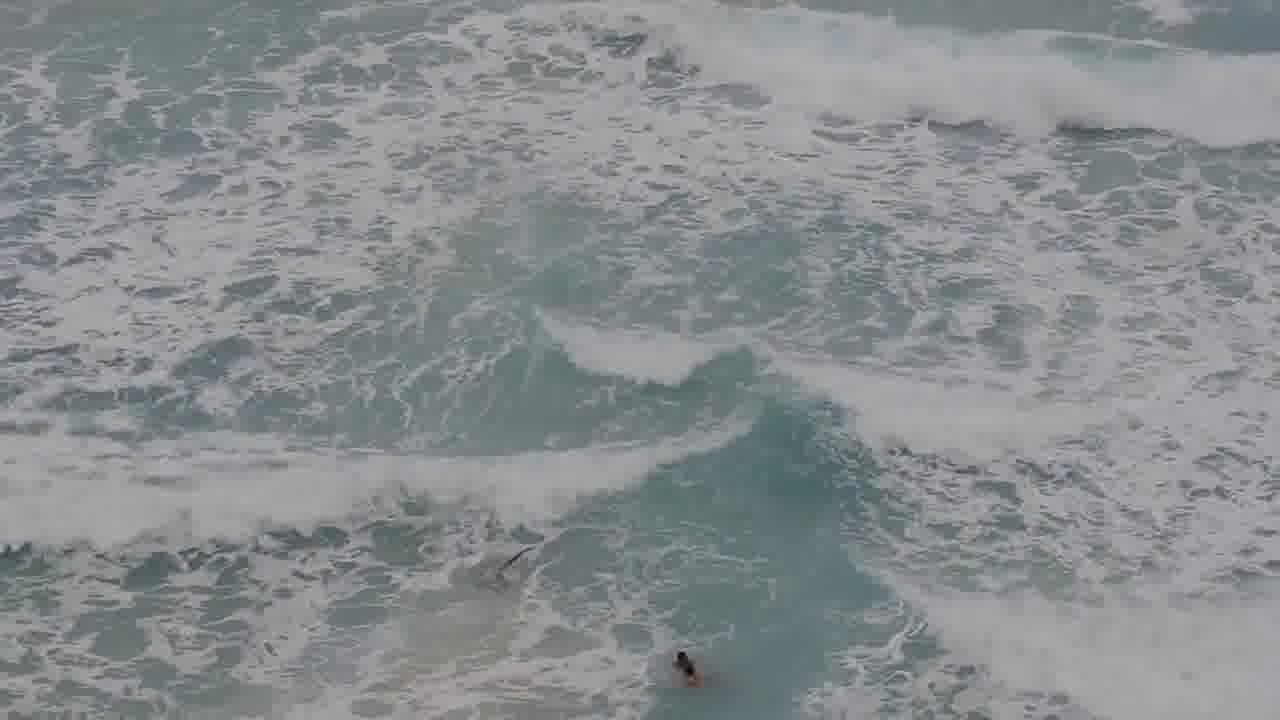human: (670, 645, 704, 682)
